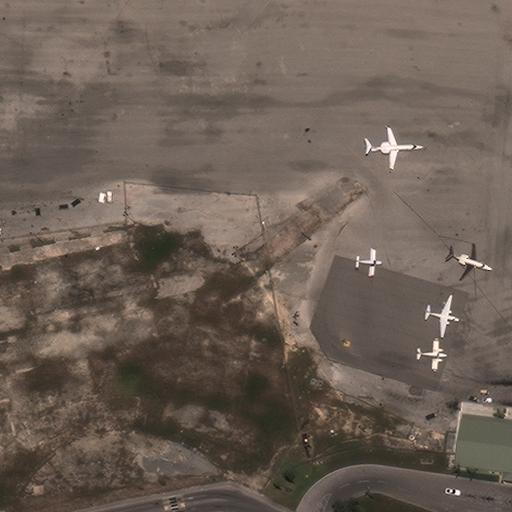Medium Civil Transport: (366, 126, 425, 169), (425, 295, 459, 338)
Small Civil Transport: (448, 243, 493, 280), (415, 339, 447, 372), (354, 249, 383, 276)
